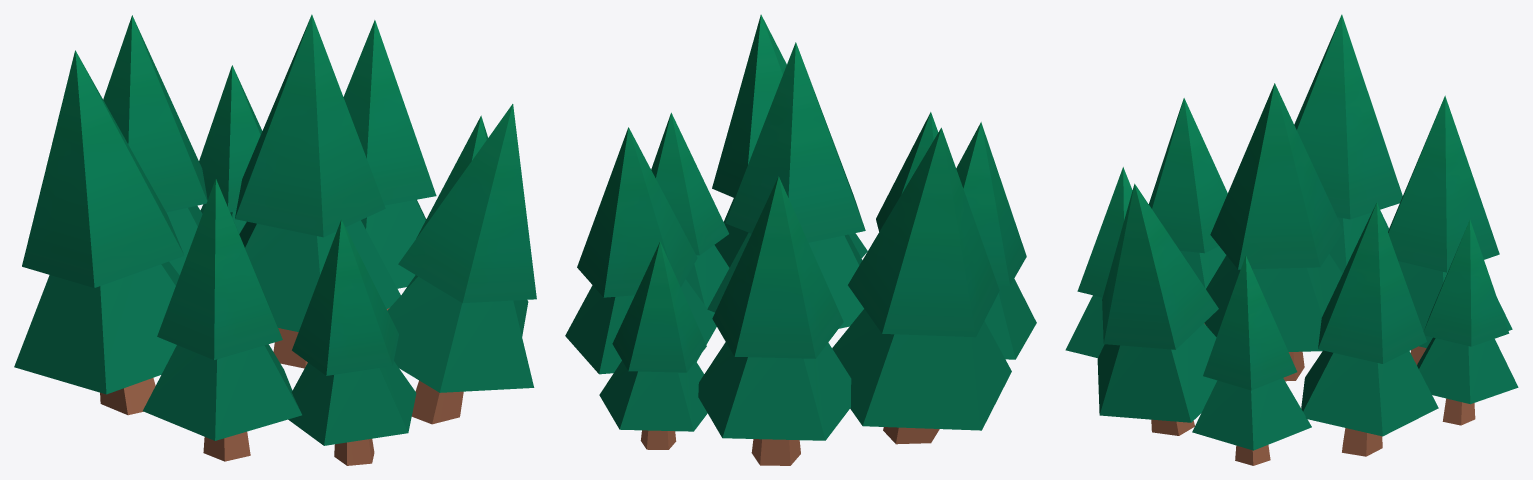
Rendered from pines.glb.
3 renders of one model, left to right at view 1: azimuth 30°, elevation 25°; view 2: azimuth 150°, elevation 25°; view 3: azimuth 270°, elevation 25°, orthographic. The views are drawn at different scales.
Visible parts, largest first — view 1: trees_A_small; view 2: trees_A_small; view 3: trees_A_small.
Part boxes in pixels (x1=…): trees_A_small: x1=14, y1=14, x2=536, y2=465; trees_A_small: x1=565, y1=14, x2=1036, y2=465; trees_A_small: x1=1065, y1=14, x2=1518, y2=465.
Bounding box in the file's own units: 1.43 × 1.11 × 1.44.
1 material, 1 textured.
